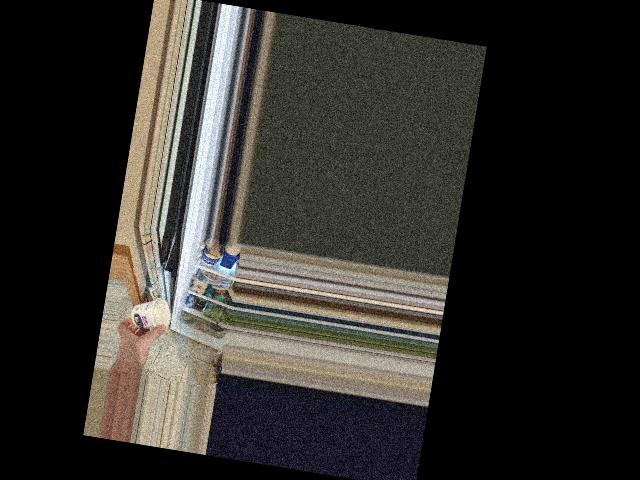cotage: (128, 291, 167, 334)
